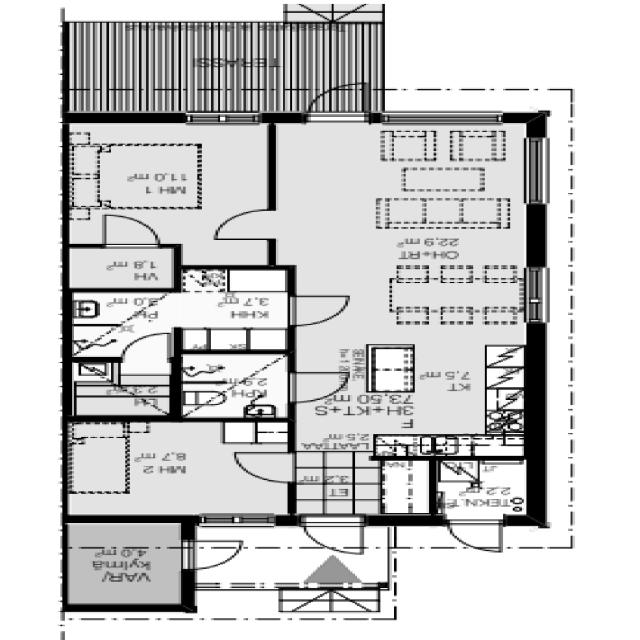door: (290, 509, 381, 557), (428, 517, 527, 551), (232, 448, 309, 491), (291, 285, 352, 339), (215, 201, 291, 244), (89, 210, 163, 253), (304, 81, 383, 121), (185, 534, 246, 579), (288, 366, 356, 406), (114, 327, 177, 366)
window: (513, 132, 563, 208), (518, 256, 567, 332), (374, 112, 529, 128), (181, 110, 302, 125), (183, 512, 284, 529)
zone: (272, 123, 550, 455), (56, 126, 270, 246), (51, 420, 302, 518), (55, 517, 194, 609), (172, 356, 299, 414)
